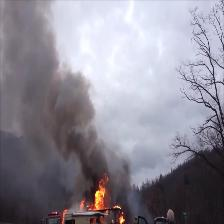fire: (93, 183, 107, 208)
smoke: (7, 1, 51, 112), (53, 72, 87, 165), (88, 139, 105, 177)
